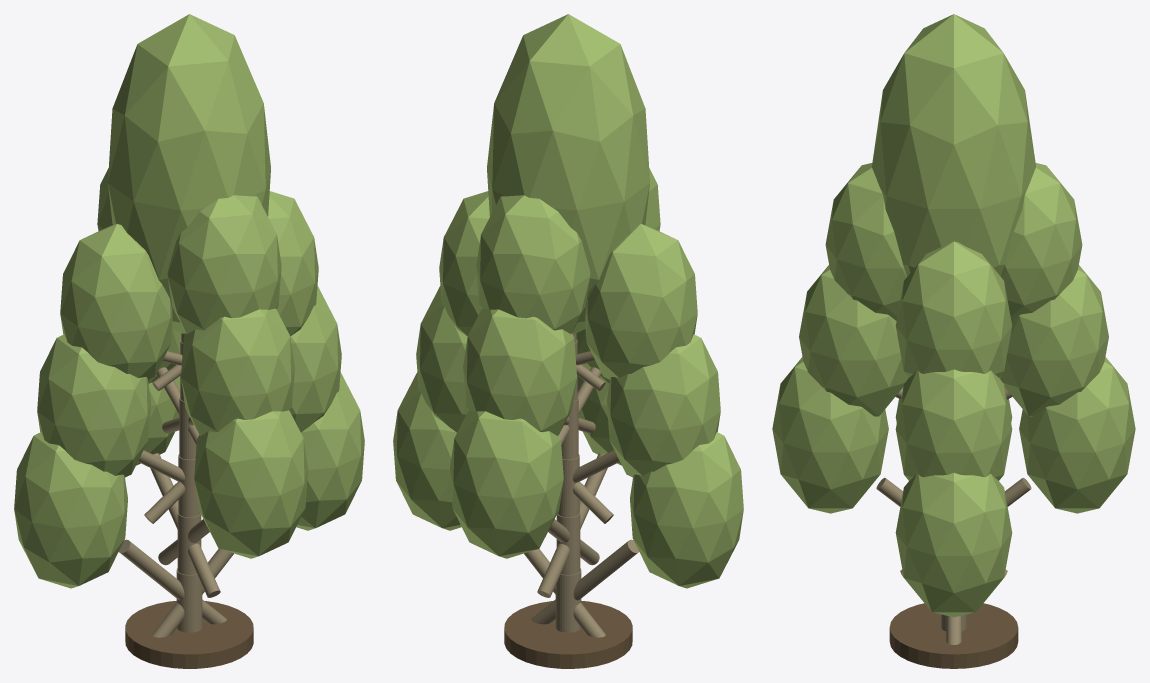
Rendered from plant_stage_7_full_flowering.glb.
The picture shows the model from 3 angles, left to right: view 1: azimuth 30°, elevation 25°; view 2: azimuth 150°, elevation 25°; view 3: azimuth 270°, elevation 25°; orthographic projection.
Parts seen in each view (by area): view 1: Icosphere.012, Icosphere.003, Icosphere.001, Icosphere.009, Icosphere.011, Icosphere.005, Icosphere.007, Icosphere, Cylinder.171, Icosphere.004, Icosphere.008, Cylinder.013 (+11 smaller); view 2: Icosphere.012, Icosphere.002, Icosphere.001, Icosphere.009, Icosphere.010, Icosphere.005, Icosphere.006, Icosphere, Cylinder.171, Icosphere.004, Icosphere.008, Cylinder.013 (+11 smaller); view 3: Icosphere.012, Icosphere, Icosphere.008, Icosphere.002, Icosphere.003, Icosphere.004, Icosphere.006, Icosphere.007, Icosphere.010, Icosphere.011, Cylinder.171.
Part boxes in pixels (x1,y1,x2,y2): Icosphere.012: (108, 14, 270, 333); Icosphere.003: (194, 410, 308, 558); Icosphere.001: (14, 432, 127, 588); Icosphere.009: (60, 224, 172, 379); Icosphere.011: (167, 195, 281, 333); Icosphere.005: (37, 334, 150, 477); Icosphere.007: (181, 308, 294, 435); Icosphere: (296, 372, 364, 530); Cylinder.171: (125, 601, 253, 668); Icosphere.004: (290, 286, 341, 432); Icosphere.008: (268, 191, 318, 336); Cylinder.013: (118, 539, 226, 624); Icosphere.012: (487, 14, 649, 333); Icosphere.002: (449, 410, 563, 558); Icosphere.001: (630, 432, 743, 588); Icosphere.009: (585, 224, 697, 379); Icosphere.010: (476, 195, 590, 333); Icosphere.005: (607, 334, 720, 477); Icosphere.006: (463, 308, 576, 435); Icosphere: (393, 372, 461, 530); Cylinder.171: (504, 601, 632, 668); Icosphere.004: (416, 286, 467, 432); Icosphere.008: (439, 191, 489, 336); Cylinder.013: (531, 539, 639, 624); Icosphere.012: (872, 14, 1035, 276); Icosphere: (895, 473, 1012, 617); Icosphere.008: (895, 241, 1012, 377); Icosphere.002: (1019, 357, 1135, 513); Icosphere.003: (772, 357, 888, 513); Icosphere.004: (895, 369, 1012, 480); Icosphere.006: (999, 265, 1108, 416); Icosphere.007: (799, 265, 908, 416); Icosphere.010: (1001, 163, 1082, 320); Icosphere.011: (825, 163, 906, 320); Cylinder.171: (889, 603, 1018, 668).
Bounding box in the file's own units: 0.4779 × 0.8712 × 0.4519.
